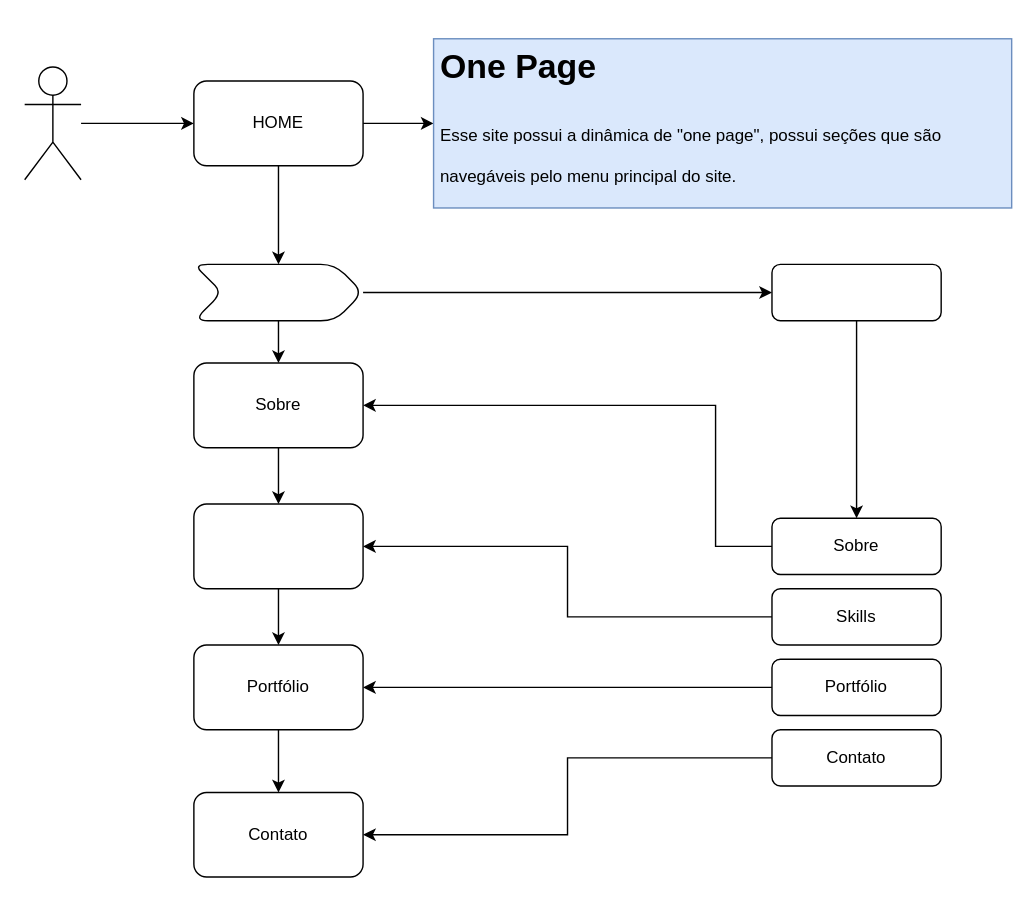
This 1036x901 diagram has some shape labels left out. The centre of each missing label's shape, as x and y in pixels:
"Header" goes at point 277,292.
"Menu" goes at point 856,292.
"Skils" goes at point 277,546.
"Usuário" goes at point 52,123.
